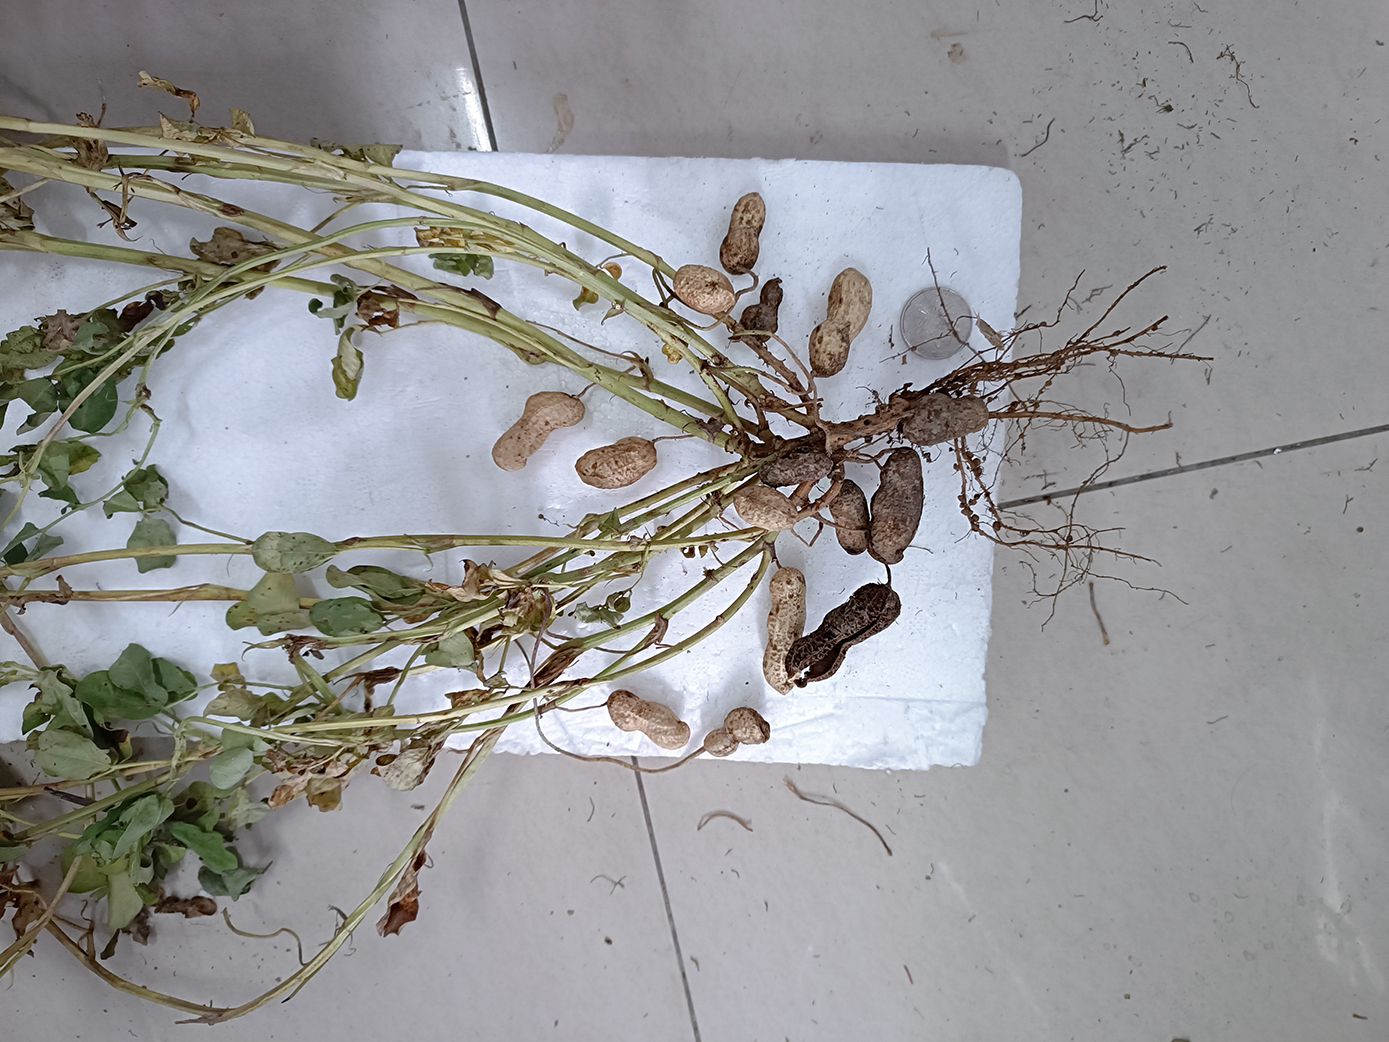h: (493, 390, 584, 472), (810, 268, 873, 377), (762, 566, 808, 697), (607, 690, 691, 750), (576, 437, 656, 489), (705, 707, 772, 759), (672, 262, 737, 313), (734, 486, 798, 531)
l: (786, 583, 902, 688), (867, 448, 923, 566), (900, 394, 989, 448), (719, 192, 765, 273), (830, 477, 868, 554), (741, 276, 784, 341), (759, 451, 833, 486)
